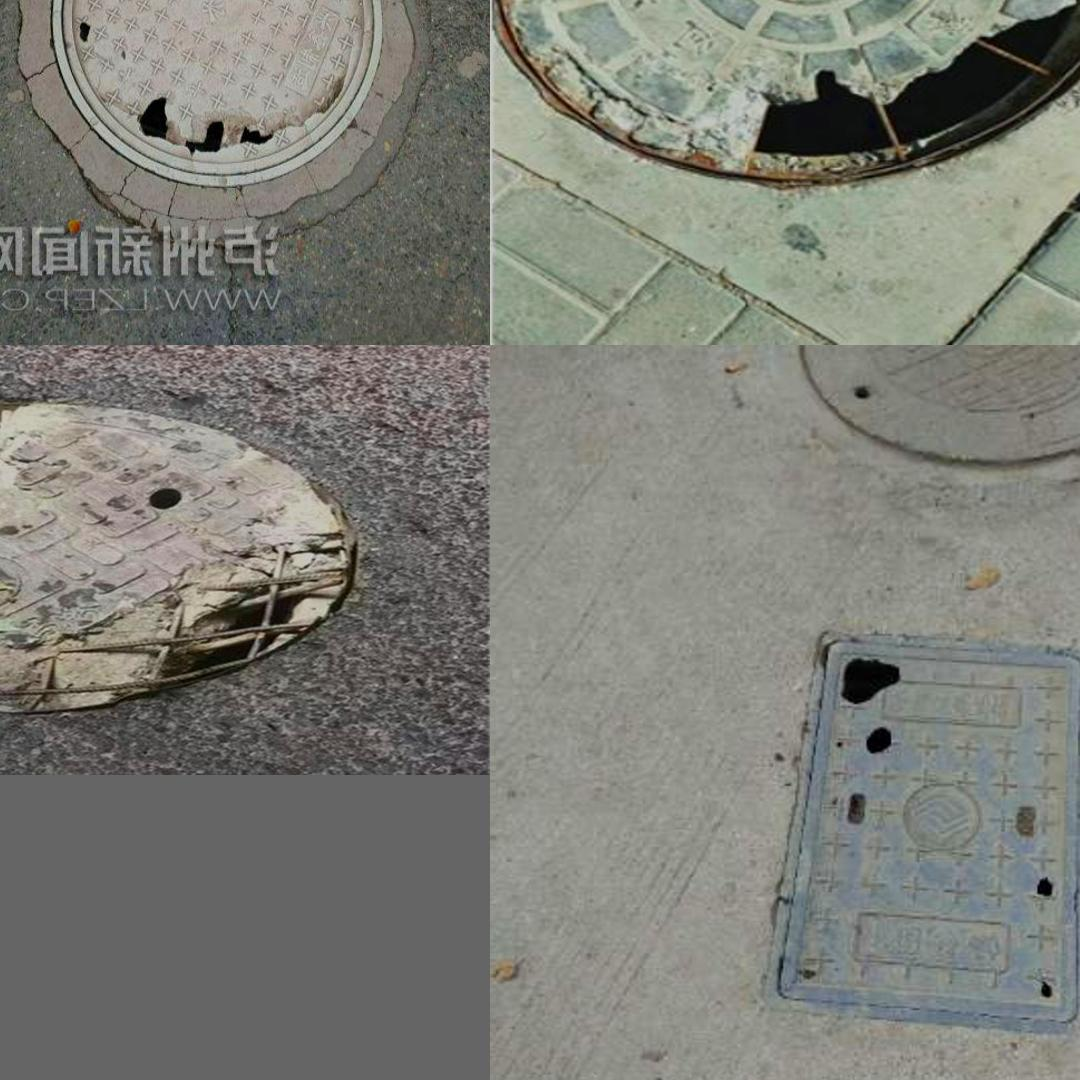broke: (0, 389, 367, 720), (766, 637, 1080, 1006), (498, 0, 1080, 177), (32, 0, 430, 227)
